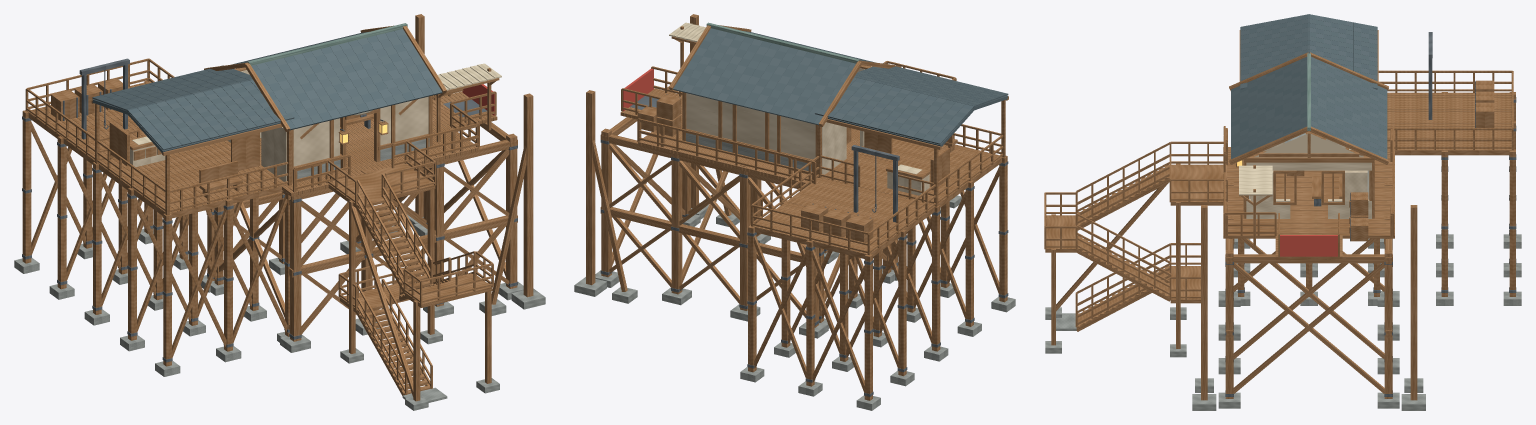
The picture shows the model from 3 angles, left to right: view 1: azimuth 30°, elevation 25°; view 2: azimuth 150°, elevation 25°; view 3: azimuth 270°, elevation 25°; orthographic projection. The views are drawn at different scales.
Visible parts, largest first — view 1: Mooring full-height pylon, Arrival landing at 8m, Station high timber column, Longitudinal structural girder, Front plaster bay, Front plaster bay.001, Eight metre timber.010, Eight metre timber.011, Station high timber column.006, Eight metre timber, Eight metre timber.001, Eight metre timber.002 (+39 smaller); view 2: Rear plaster wall, Mooring full-height pylon.001, Longitudinal structural girder.002, Station high timber column.005, Eight metre timber.011, Eight metre timber.002, Eight metre timber.010, Eight metre timber.001, Eight metre timber, Station high timber column.003, Eight metre timber.014, Station high timber column.007 (+47 smaller); view 3: Arrival landing at 8m, Mooring full-height pylon.001, Mooring full-height pylon, Closed platform safety gate, Station high timber column.006, Station high timber column.007, Cross structural girder.002, Gable plaster infill.001, Cross bay diagonal.002, Cross bay reverse diagonal.002, Side clerestory.001, Eight metre timber.017 (+20 smaller).
Boxes of the visible parts, x1,y1,x2,y2 form: Mooring full-height pylon: (523, 93, 533, 297); Arrival landing at 8m: (327, 164, 435, 207); Station high timber column: (290, 187, 301, 341); Longitudinal structural girder: (289, 215, 517, 277); Front plaster bay: (293, 118, 339, 166); Front plaster bay.001: (380, 96, 428, 145); Eight metre timber.010: (57, 136, 66, 289); Eight metre timber.011: (22, 110, 31, 263); Station high timber column.006: (506, 133, 517, 288); Eight metre timber: (163, 213, 171, 366); Eight metre timber.001: (128, 187, 136, 340); Eight metre timber.002: (93, 162, 101, 314); Rear plaster wall: (686, 93, 815, 159); Mooring full-height pylon.001: (586, 90, 595, 285); Longitudinal structural girder.002: (600, 207, 819, 262); Station high timber column.005: (671, 145, 682, 294); Eight metre timber.011: (864, 254, 872, 400); Eight metre timber.002: (932, 205, 940, 351); Eight metre timber.010: (898, 229, 906, 376); Eight metre timber.001: (965, 180, 973, 326); Eight metre timber: (999, 155, 1007, 302); Station high timber column.003: (740, 162, 750, 310); Eight metre timber.014: (806, 240, 814, 386); Station high timber column.007: (601, 128, 611, 277); Arrival landing at 8m: (1170, 164, 1226, 205); Mooring full-height pylon.001: (1410, 205, 1417, 400); Mooring full-height pylon: (1201, 205, 1207, 400); Closed platform safety gate: (1280, 235, 1337, 256); Station high timber column.006: (1225, 250, 1233, 398); Station high timber column.007: (1384, 250, 1392, 398); Cross structural girder.002: (1225, 254, 1392, 263); Gable plaster infill.001: (1254, 133, 1363, 157); Cross bay diagonal.002: (1233, 263, 1384, 393); Cross bay reverse diagonal.002: (1233, 263, 1384, 393); Side clerestory.001: (1246, 162, 1371, 170); Eight metre timber.017: (1509, 149, 1515, 296).
Size of the model in its own units: 19.18 by 13.1 by 22.79.
19 materials, 14 textured.
